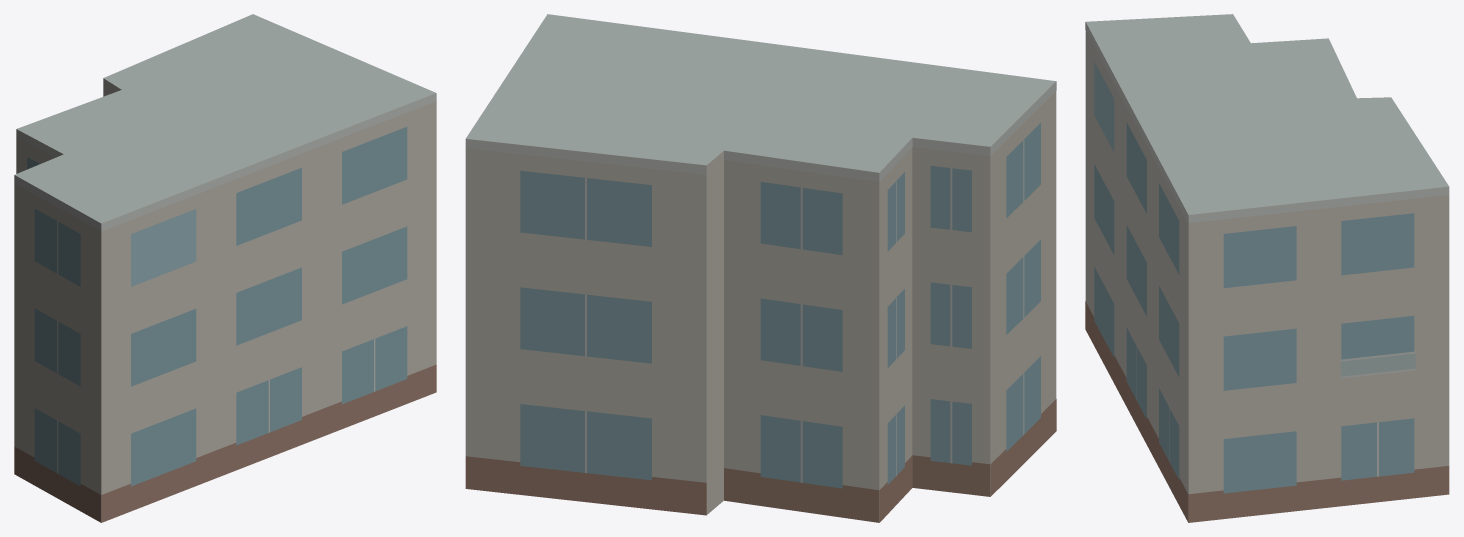
Rendered from survey-upis-32582764.glb.
The picture shows the model from 3 angles, left to right: view 1: azimuth 30°, elevation 25°; view 2: azimuth 150°, elevation 25°; view 3: azimuth 270°, elevation 25°; orthographic projection. The views are drawn at different scales.
Parts seen in each view (by area): view 1: survey-upis-32582764.tmp; view 2: survey-upis-32582764.tmp; view 3: survey-upis-32582764.tmp.
Part boxes in pixels (x1=…): survey-upis-32582764.tmp: x1=14, y1=14, x2=436, y2=522; survey-upis-32582764.tmp: x1=465, y1=14, x2=1056, y2=522; survey-upis-32582764.tmp: x1=1085, y1=14, x2=1449, y2=522.
Size of the model in its own units: 12.82 by 9.15 by 9.81.
